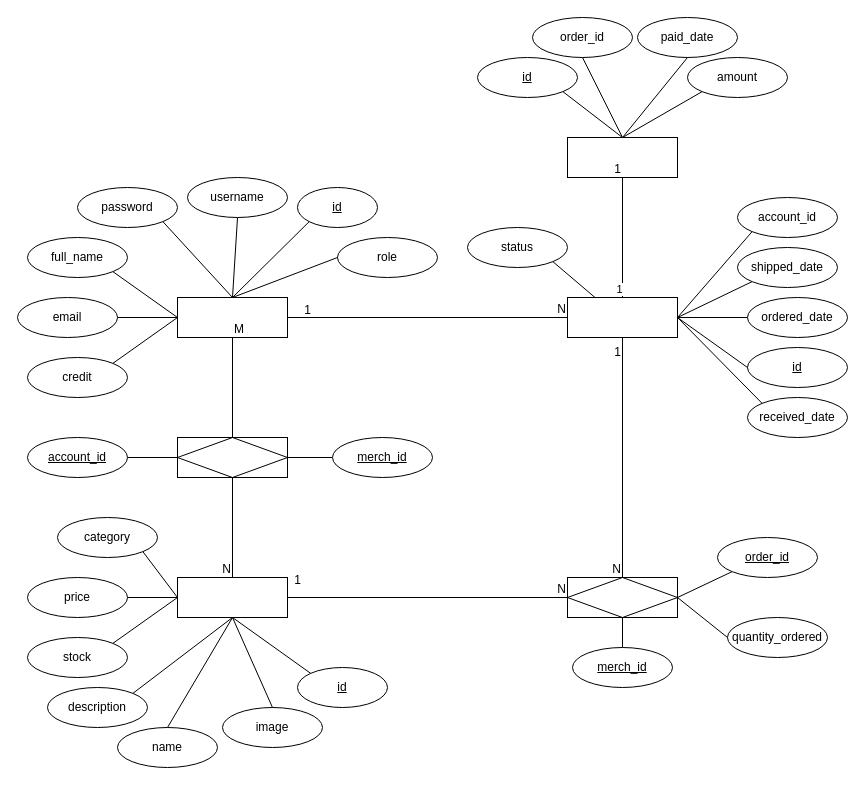
Some shapes in this 865 by 785 pixel diagram are drawn without their labels. The shapes that lost their labels are listed below. From the top down, each one's box as (x1, y1, x2, y2) in pixels, then its label:
(566, 136, 678, 178): payments
(176, 296, 288, 338): accounts
(566, 296, 678, 338): orders
(176, 436, 288, 478): wishlists
(176, 576, 288, 618): merches
(566, 576, 678, 618): order_details
